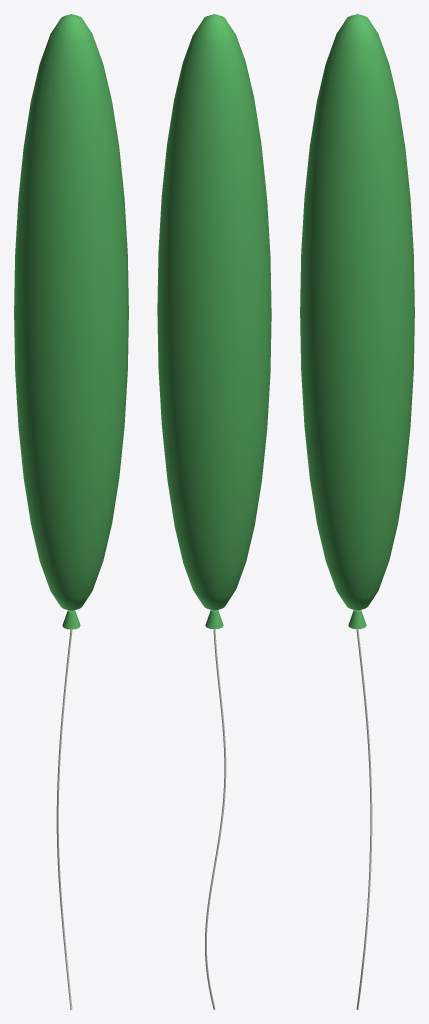
File: balloon_long_green.glb
3 views of the same model, side by side, from view 1: azimuth 90°, elevation 25°; view 2: azimuth 210°, elevation 25°; view 3: azimuth 270°, elevation 25° (orthographic).
Parts seen in each view (by area): view 1: Long twisting balloon, Trailing string; view 2: Long twisting balloon, Trailing string; view 3: Long twisting balloon, Trailing string.
Boxes of the visible parts, bbox=[...] form: Long twisting balloon: bbox=[14, 14, 128, 610]; Trailing string: bbox=[56, 629, 72, 1009]; Long twisting balloon: bbox=[157, 14, 271, 610]; Trailing string: bbox=[205, 629, 226, 1009]; Long twisting balloon: bbox=[300, 14, 414, 610]; Trailing string: bbox=[356, 629, 372, 1009].
Bounding box in the file's own units: 0.15 × 1.43 × 0.15.
